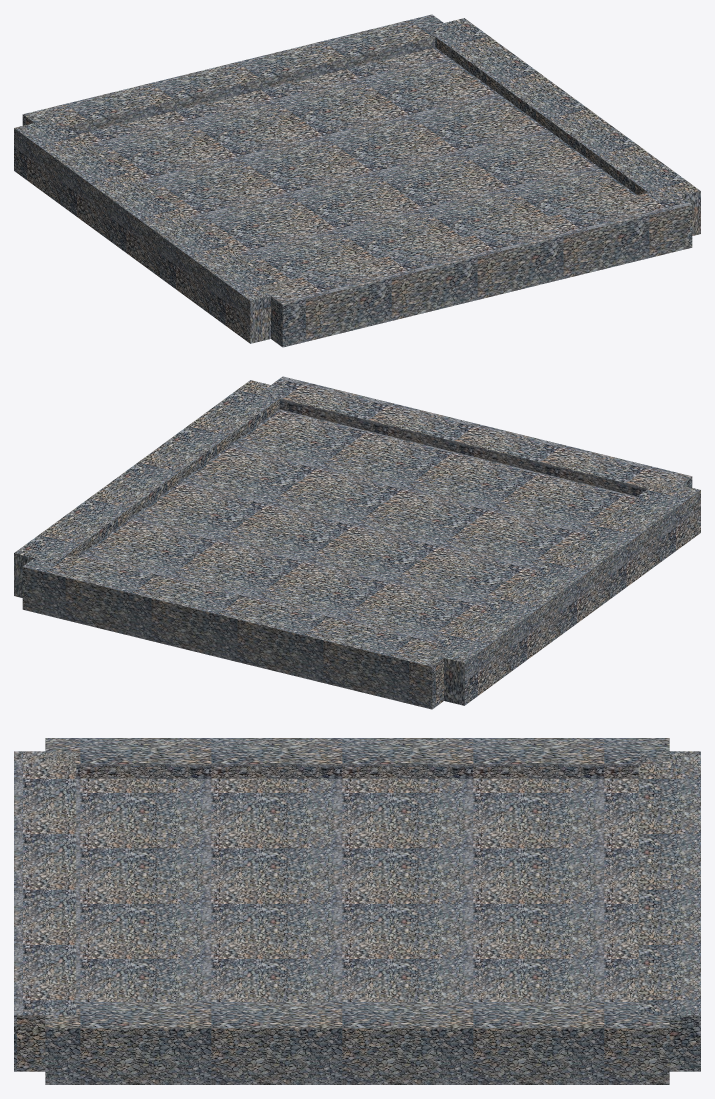
File: arena.obj
The picture shows the model from 3 angles, top to bottom: view 1: azimuth 30°, elevation 25°; view 2: azimuth 150°, elevation 25°; view 3: azimuth 270°, elevation 25°; orthographic projection. The views are drawn at different scales.
Visible parts, largest first — view 1: Cube; view 2: Cube; view 3: Cube.
Boxes of the visible parts, <box> form: Cube: <box>14,14,700,347</box>; Cube: <box>14,376,700,709</box>; Cube: <box>14,738,700,1084</box>.
Bounding box in the file's own units: 22 × 2 × 22.
